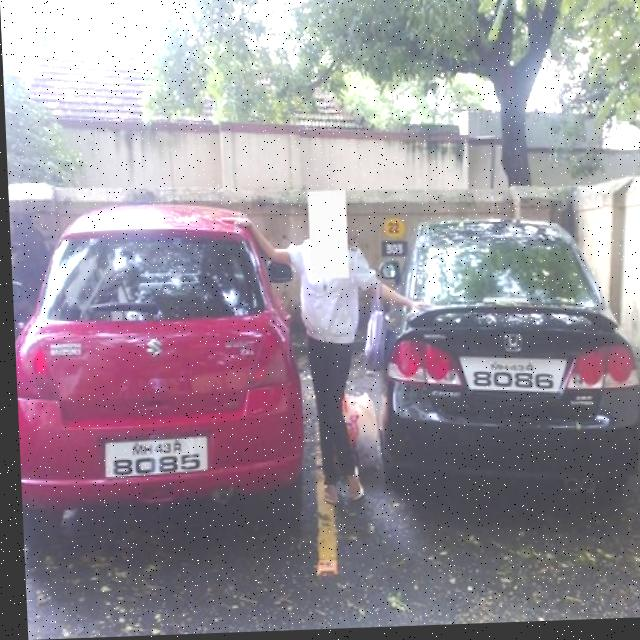plate: (458, 350, 573, 407), (95, 435, 208, 484)
